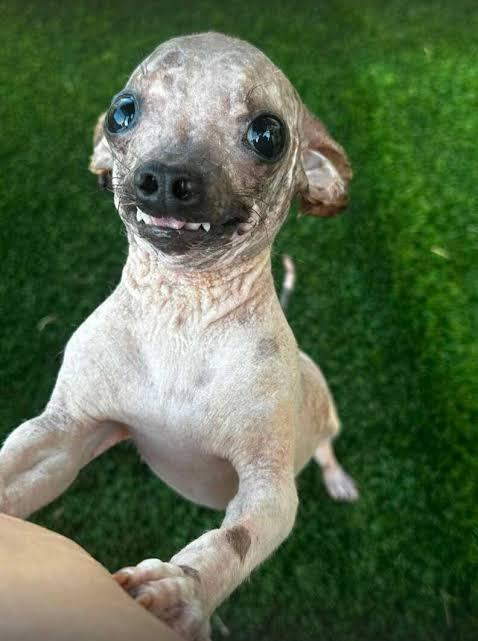adult_dog: (1, 29, 360, 641)
